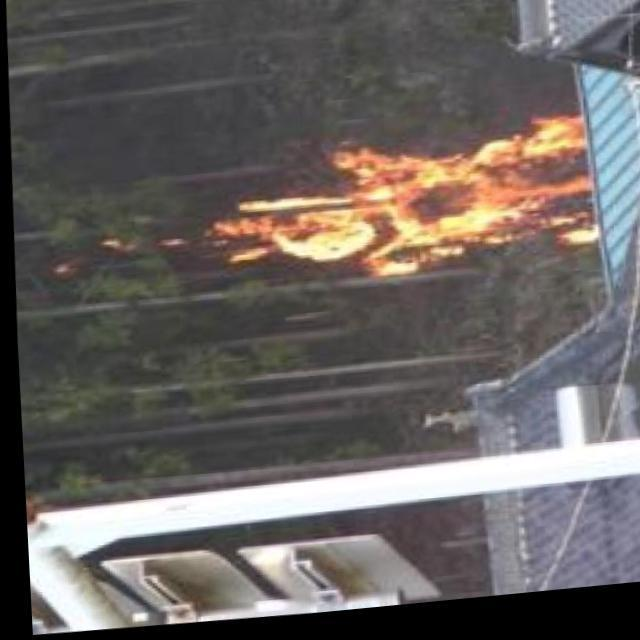fire: (213, 125, 603, 301)
